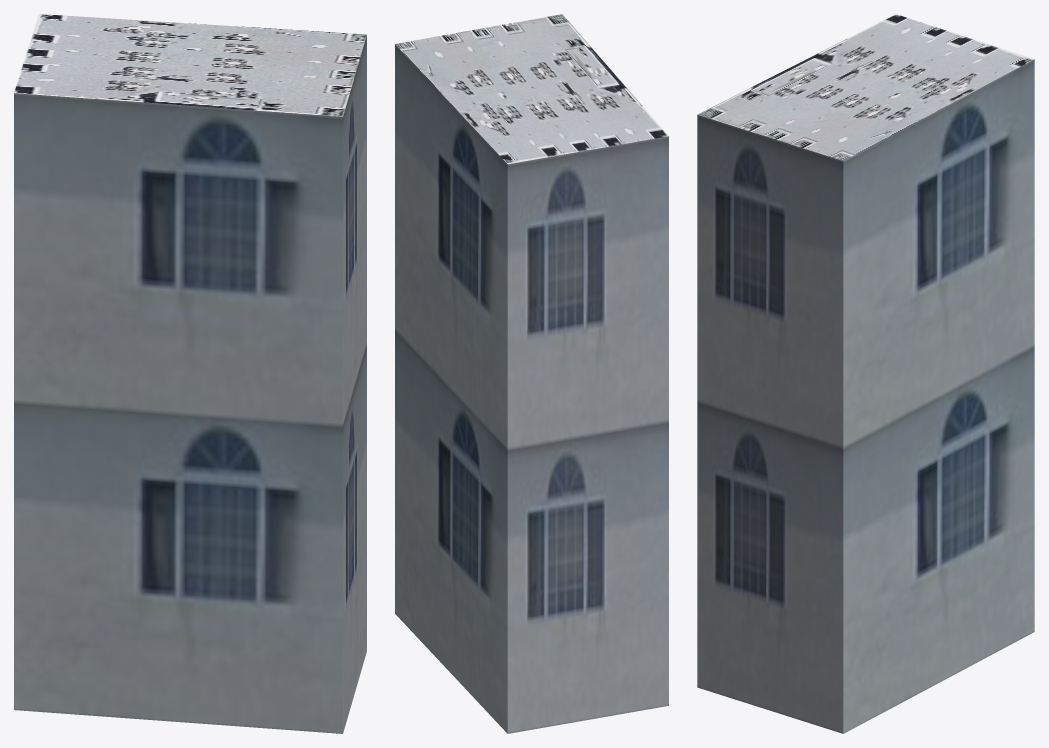
File: ResTex__129.fbx
3 views of the same model, side by side, from view 1: azimuth 30°, elevation 25°; view 2: azimuth 150°, elevation 25°; view 3: azimuth 270°, elevation 25° (orthographic). The views are drawn at different scales.
Visible parts, largest first — view 1: CityEngineMaterial_17_m, CityEngineMaterial_4_m; view 2: CityEngineMaterial_17_m, CityEngineMaterial_4_m; view 3: CityEngineMaterial_17_m, CityEngineMaterial_4_m.
Part boxes in pixels (x1=…): CityEngineMaterial_17_m: x1=14, y1=35, x2=366, y2=733; CityEngineMaterial_4_m: x1=14, y1=14, x2=366, y2=116; CityEngineMaterial_17_m: x1=395, y1=44, x2=668, y2=733; CityEngineMaterial_4_m: x1=395, y1=14, x2=668, y2=164; CityEngineMaterial_17_m: x1=697, y1=59, x2=1034, y2=733; CityEngineMaterial_4_m: x1=698, y1=14, x2=1034, y2=160.
Bounding box in the file's own units: 3.31 × 6 × 3.2.
2 materials, 2 textured.
